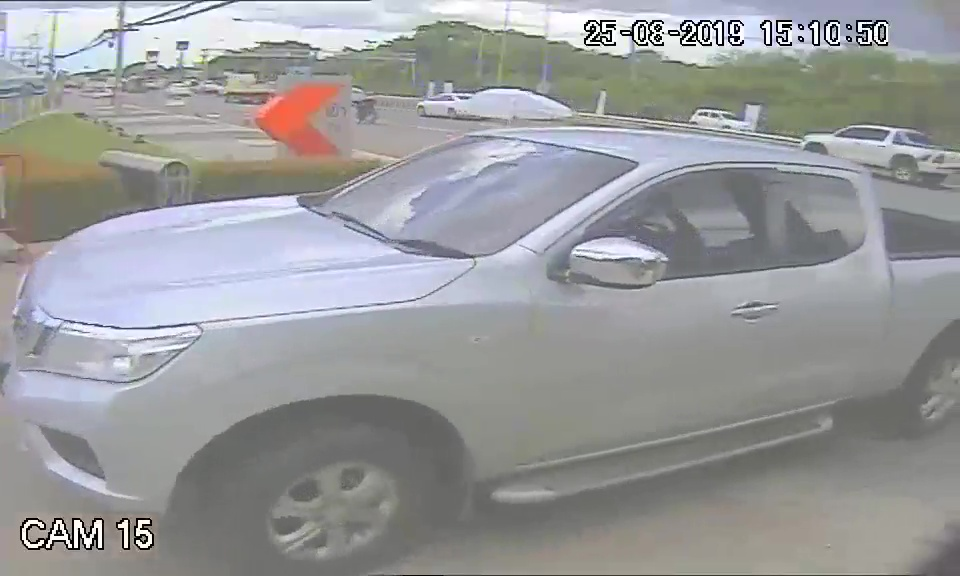pickup: (7, 124, 885, 515)
